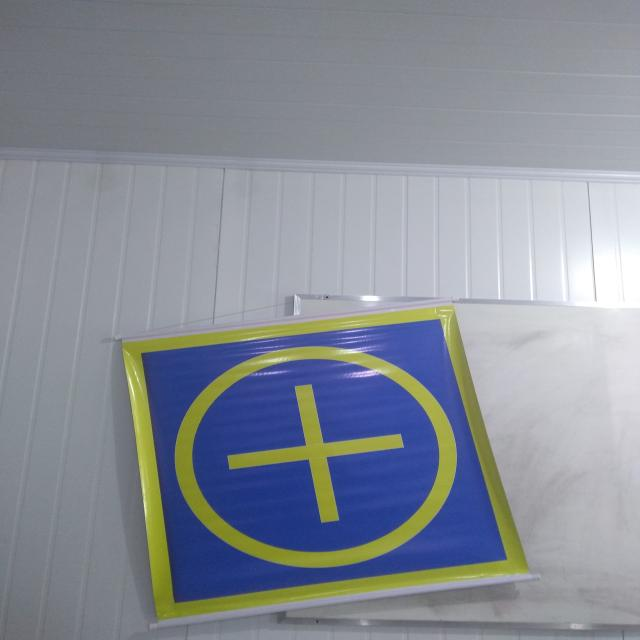circulo-com-sinal-positivo: (110, 288, 517, 632)
